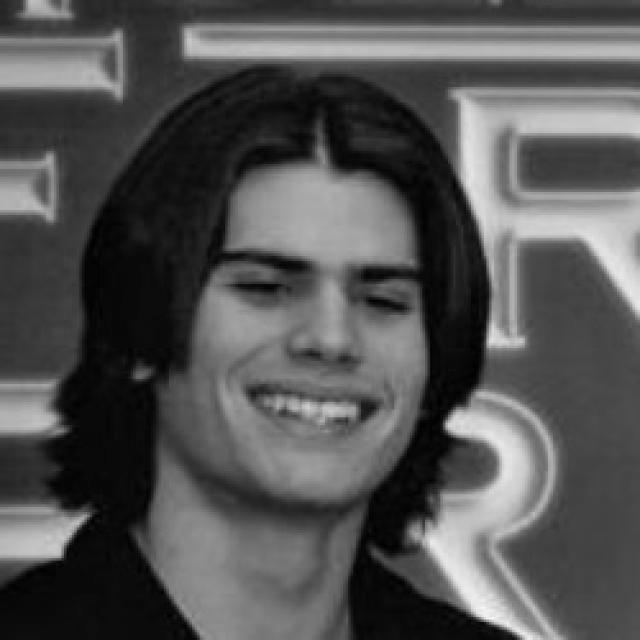real: (120, 68, 458, 510), (219, 239, 429, 332)
